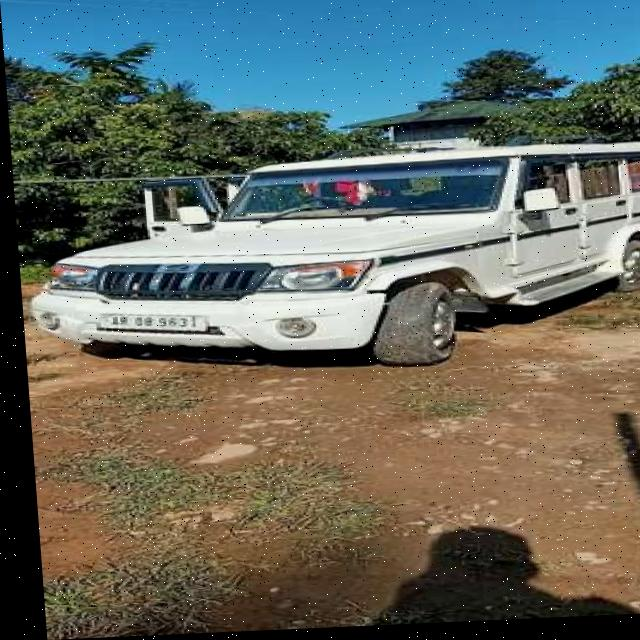plate: (90, 310, 204, 337)
